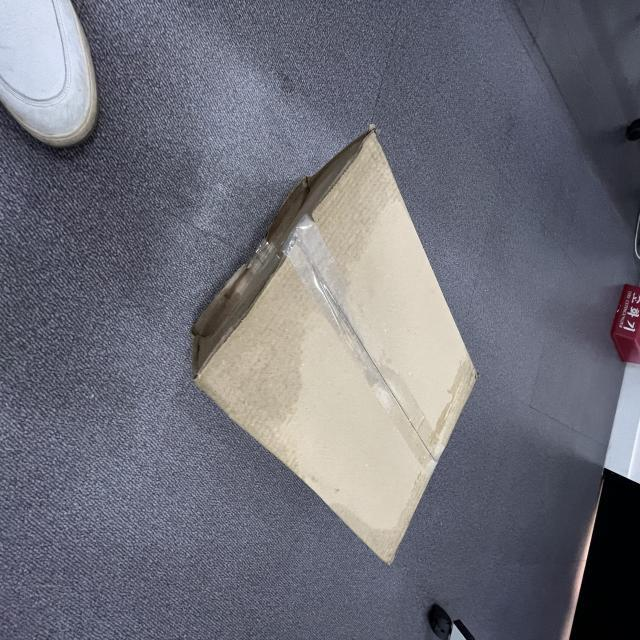wet: (191, 263, 317, 438), (313, 127, 399, 285)
